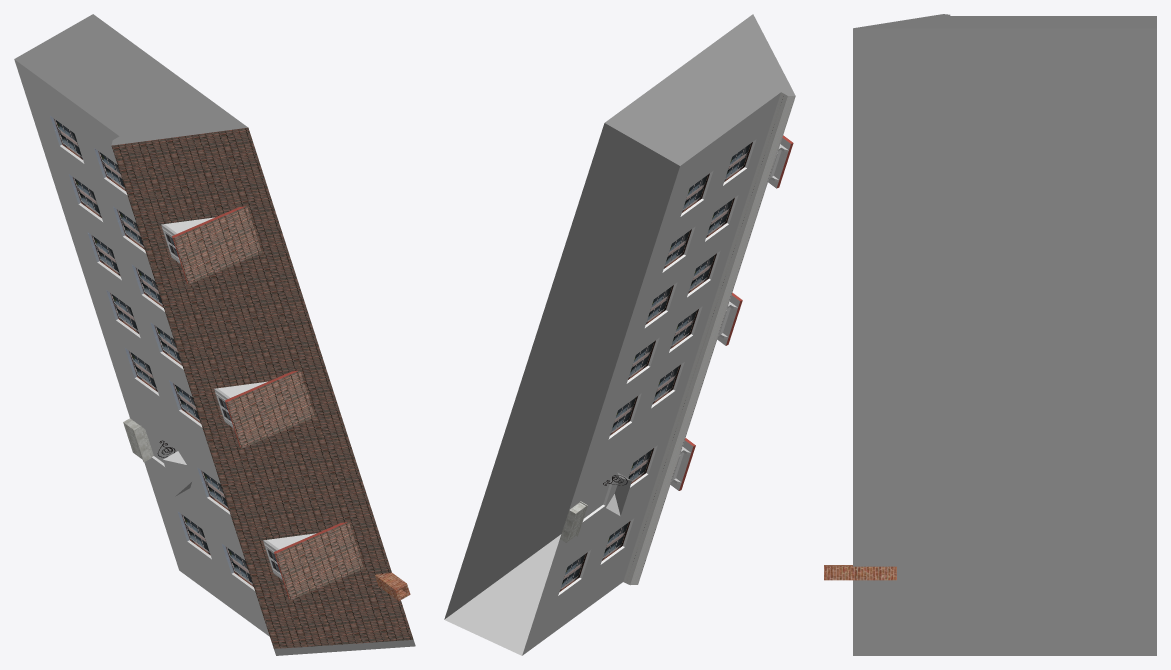
File: Myyrivahe_60.obj
The picture shows the model from 3 angles, left to right: view 1: azimuth 30°, elevation 25°; view 2: azimuth 150°, elevation 25°; view 3: azimuth 270°, elevation 25°; orthographic projection. The views are drawn at different scales.
Parts seen in each view (by area): view 1: myv_60, xxx; view 2: myv_60, xxx; view 3: xxx, myv_60.
Boxes of the visible parts, <box> form: myv_60: <box>14,59,415,655</box>; xxx: <box>14,14,247,145</box>; myv_60: <box>444,92,795,655</box>; xxx: <box>444,14,795,619</box>; xxx: <box>853,14,1156,655</box>; myv_60: <box>824,565,896,580</box>.
Size of the model in its own units: 10.63 by 22.83 by 12.13.
